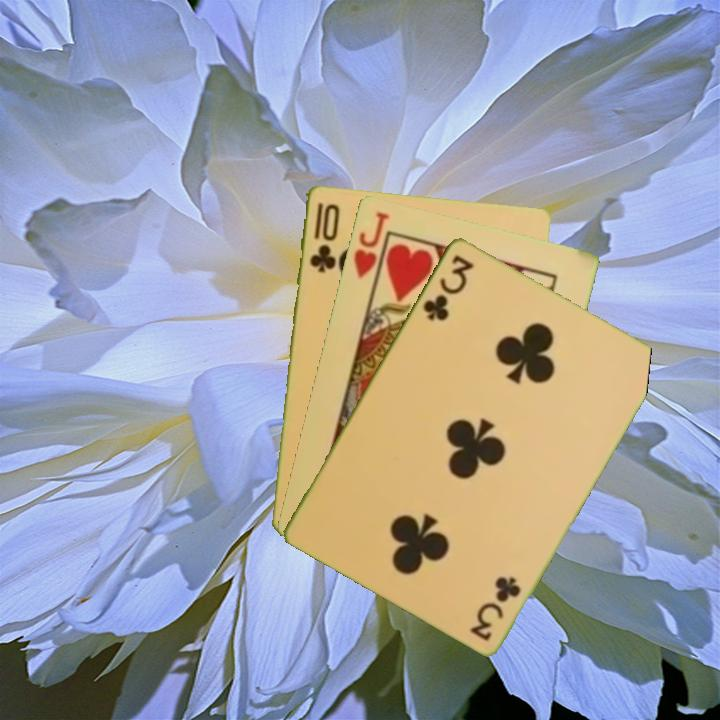10c: (306, 198, 342, 275)
3c: (419, 251, 476, 323), (467, 572, 524, 644)
Jh: (349, 208, 392, 292)
